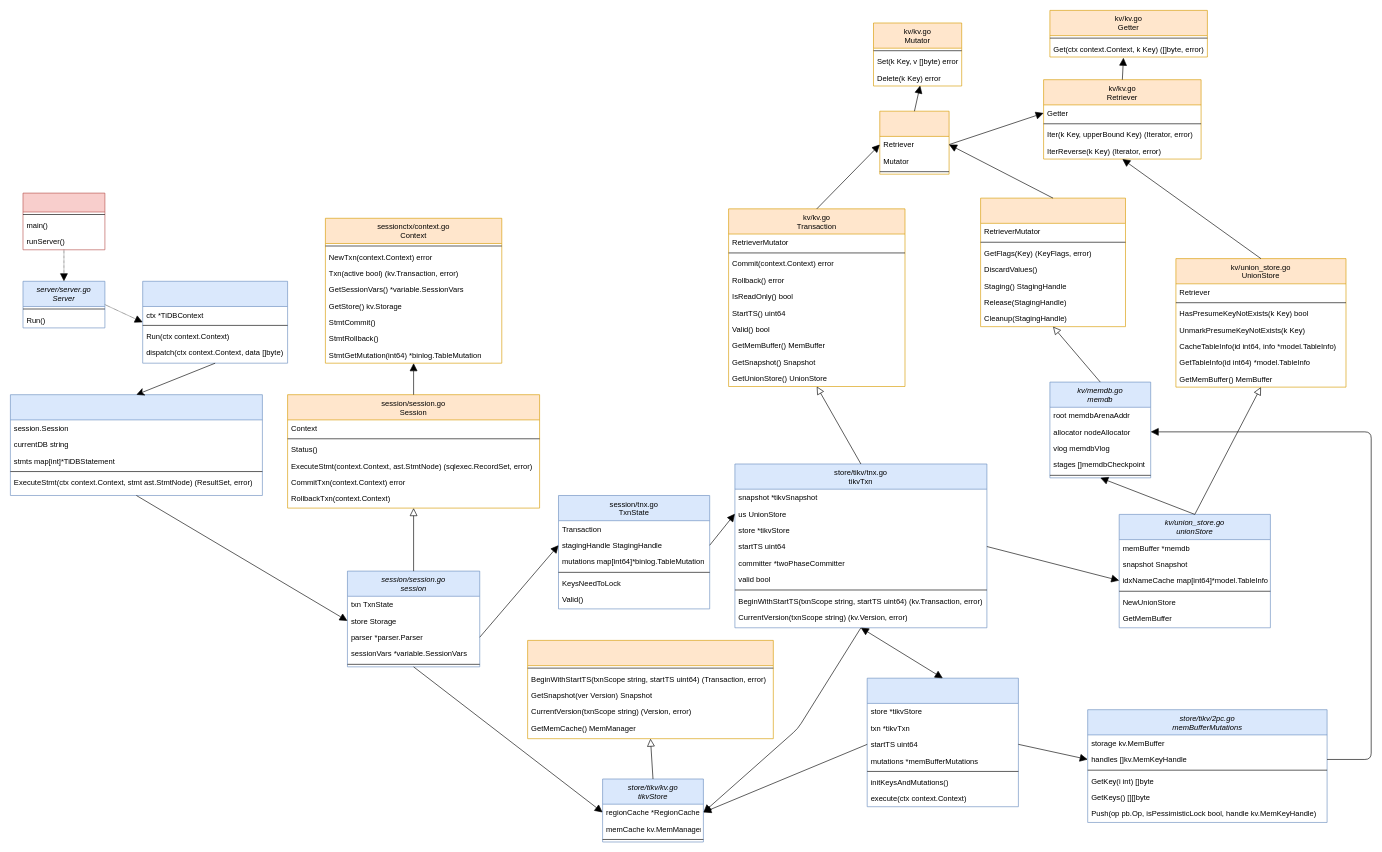
The diagram is 1382 pixels wide and 852 high, and some of its shapes have lost their labels. Each missing label, with the box of its shape:
kv/kv.go MemBuffer: (980, 198, 1125, 327)
kv/kv.go RetrieverMutator: (879, 111, 949, 174)
kv/kv.go Storage: (527, 640, 773, 739)
server/conn.go clientConn: (142, 281, 288, 363)
server/driver_tidb.go TiDBContext: (10, 394, 262, 495)
store/tikv/2pc.go twoPhaseCommitter: (867, 678, 1018, 807)
tidb-server/main.go: (22, 192, 105, 250)
